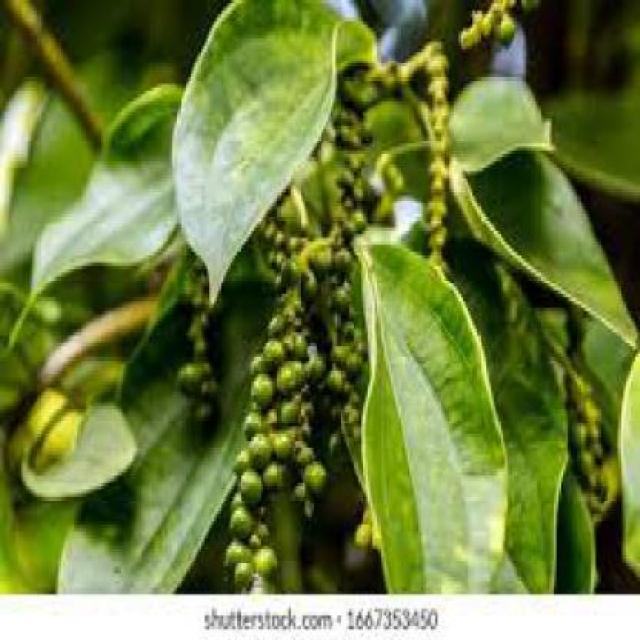UNRIPE: (236, 179, 376, 570)
